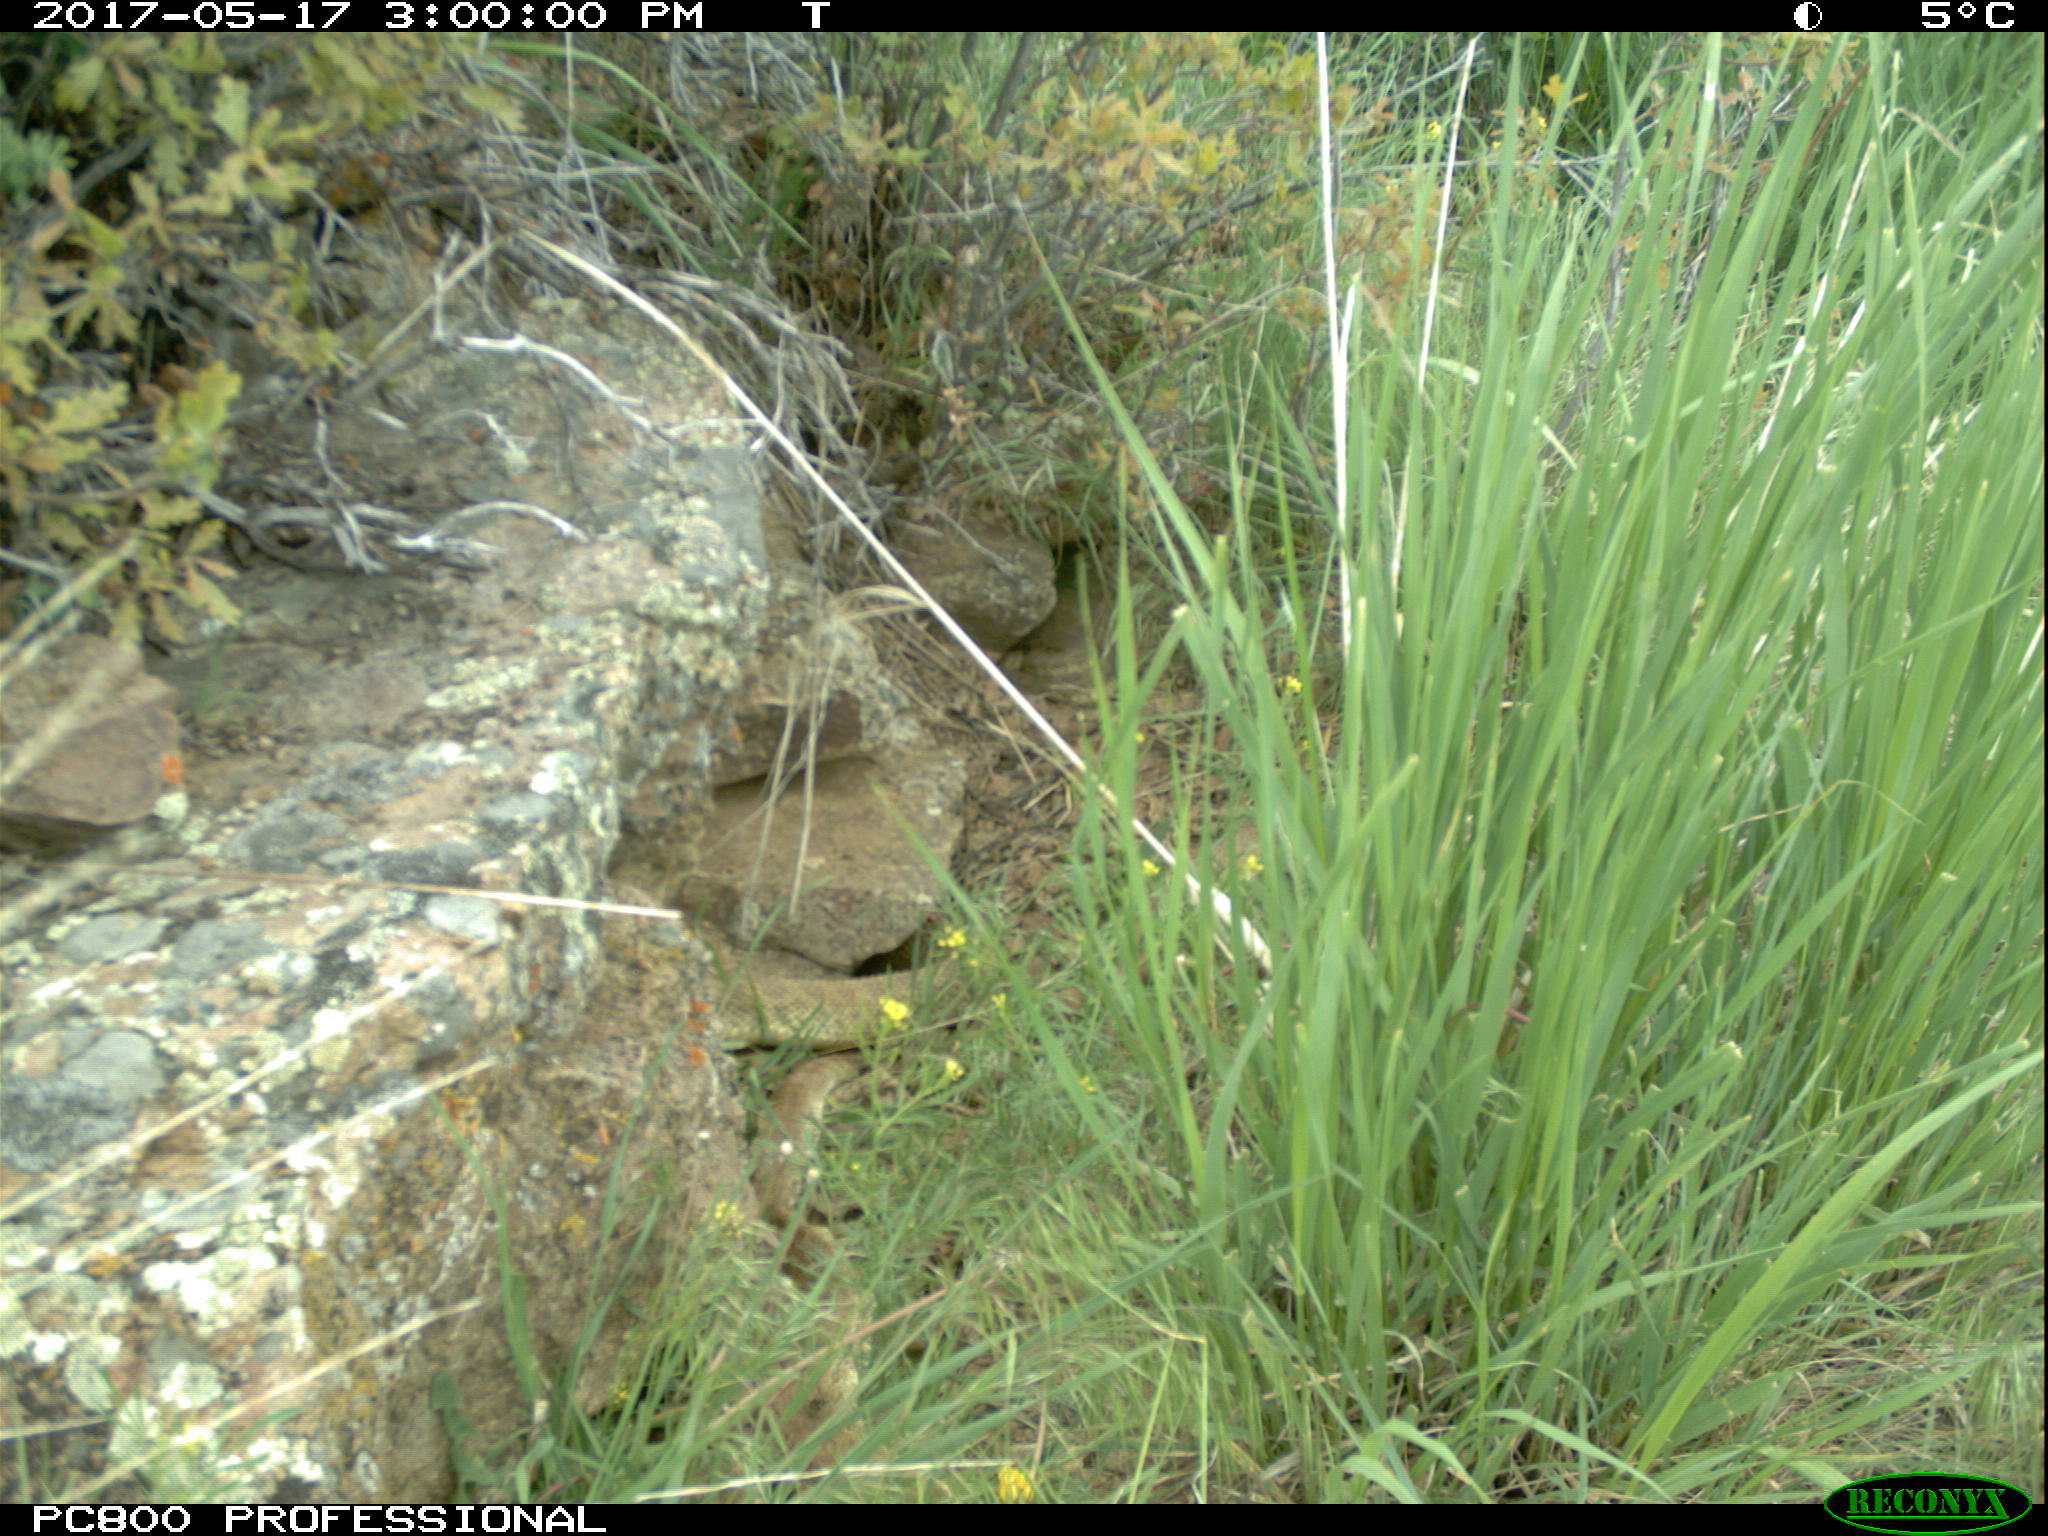snake: (753, 1052, 874, 1483), (719, 970, 976, 1055)
